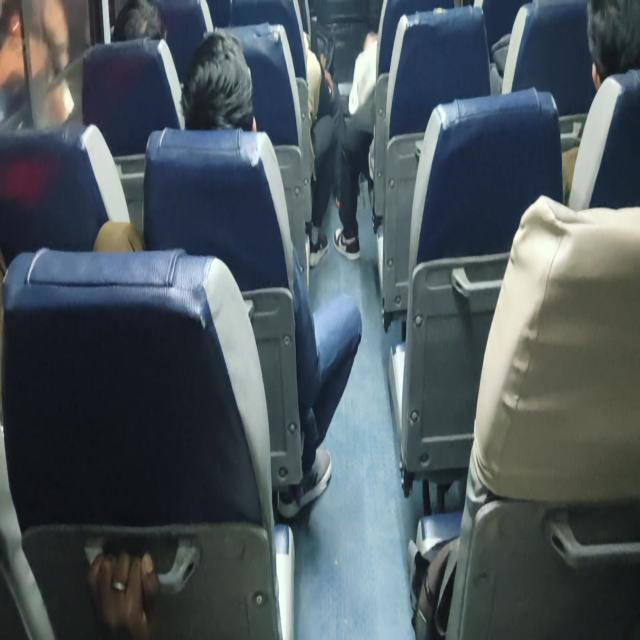person: (93, 28, 363, 520), (332, 0, 454, 261), (238, 0, 343, 268), (560, 0, 639, 202), (332, 28, 380, 261), (0, 0, 77, 128), (302, 30, 342, 268), (85, 547, 161, 638), (112, 1, 167, 42)
